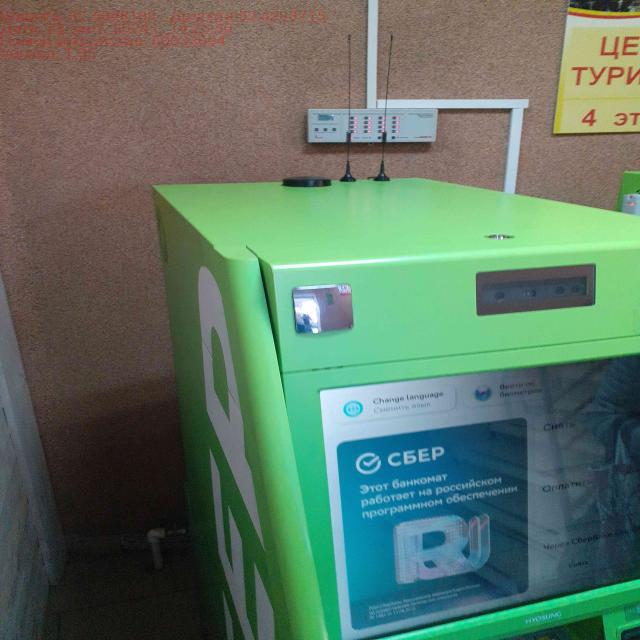bank: (149, 181, 640, 640)
